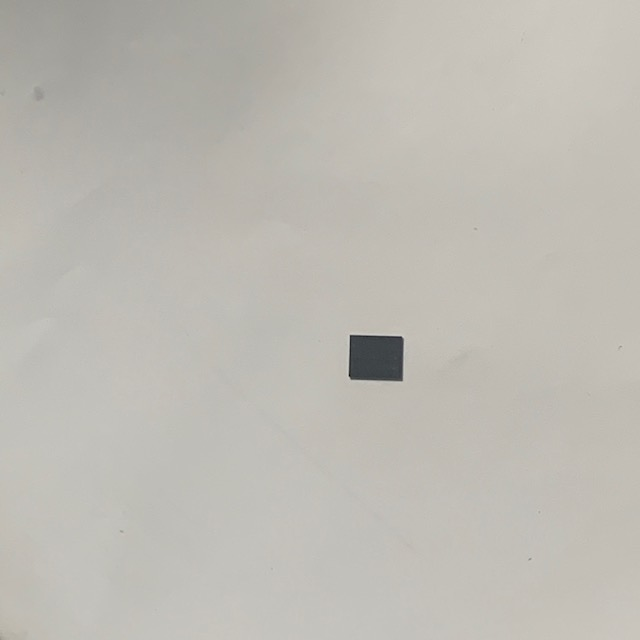IC: (346, 329, 409, 386)
